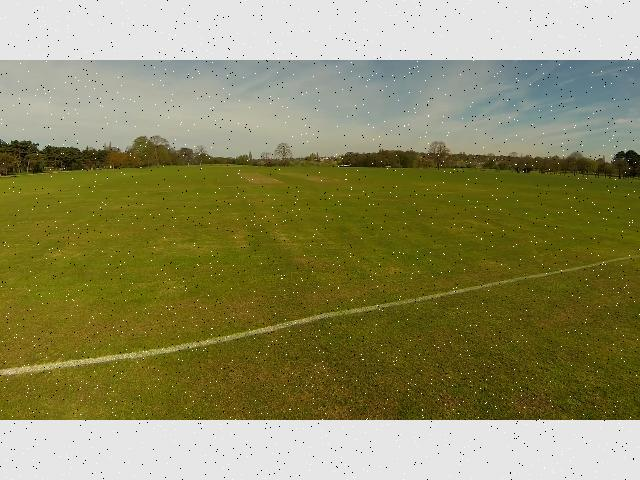Anti-Drone: (330, 162, 362, 170)
